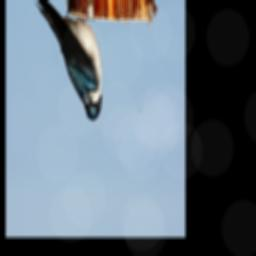Swallow: (33, 0, 102, 122)
